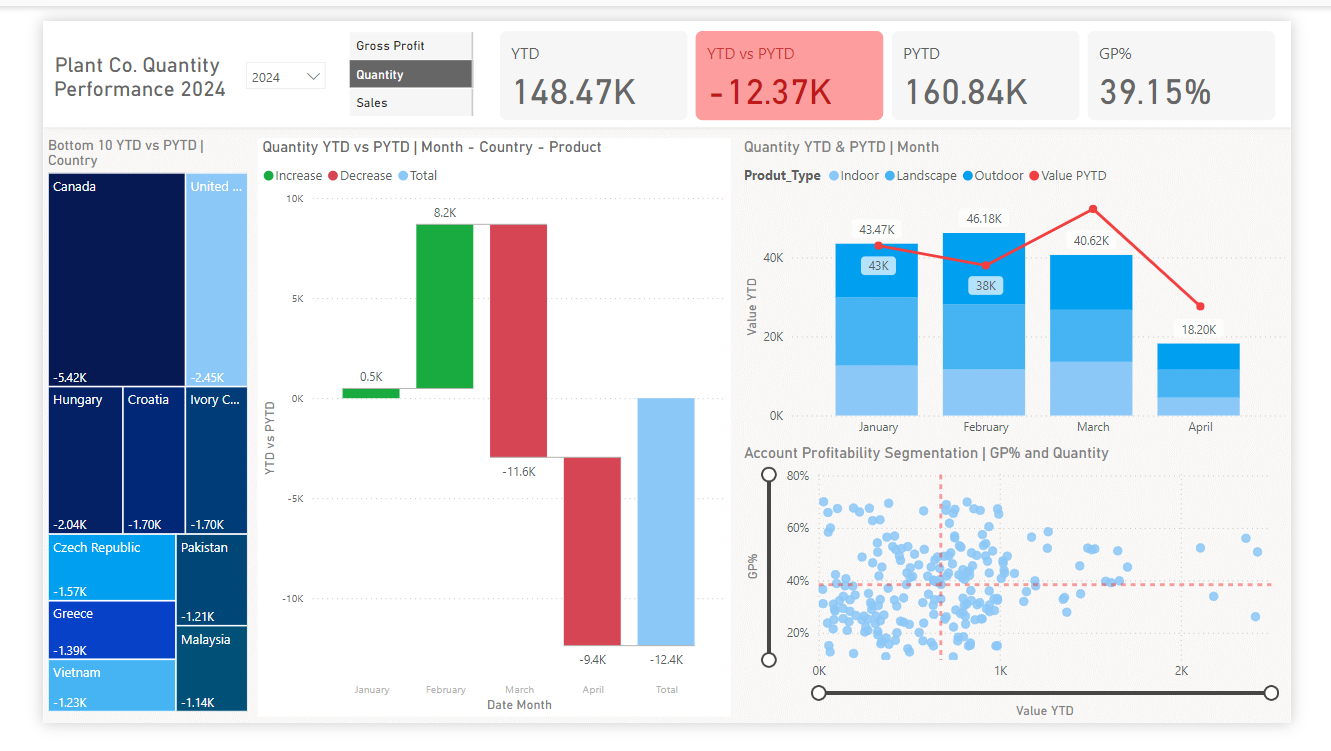

Layout of this report page (visuals, bound fields, positions):
{"tool":"powerbi","page":{"name":"Performance Report","canvas":[1280,720],"ordinal":0},"visuals":[{"type":"cardVisual","fields":{"Data":["_Measures.S_YTD","_Measures.YTD vs PYTD","_Measures.S_PYTD","_Measures.GP%"]},"box":[463,4.2,806.2,102.1],"z":0},{"type":"advancedSlicerVisual","fields":{"Values":["Slc_Values.Values"]},"box":[309.8,5.9,137.3,98],"z":1000},{"type":"slicer","fields":{"Values":["Dim_Date.Date.Variation.Date Hierarchy.Year"]},"box":[198.4,32.7,101.3,50.2],"z":2000},{"type":"treemap","title":"Bottom 10 YTD vs PYTD | Country","fields":{"Values":["_Measures.YTD vs PYTD"],"Group":["Dim_Account.country"]},"box":[0,118.7,214.6,594.4],"z":3000},{"type":"waterfallChart","fields":{"Y":["_Measures.YTD vs PYTD"],"Category":["Dim_Date.Date.Variation.Date Hierarchy.Month","Dim_Account.country","Dim_Product.Produt_Type","Dim_Product.Product_Name"]},"box":[220.3,119.6,485.2,593.5],"z":4000},{"type":"lineStackedColumnComboChart","fields":{"Y":["_Measures.S_YTD"],"Y2":["_Measures.S_PYTD"],"Category":["Dim_Date.Date.Variation.Date Hierarchy.Quarter","Dim_Date.Date.Variation.Date Hierarchy.Month"],"Series":["Dim_Product.Produt_Type"]},"box":[714.1,119.6,565.9,314.3],"z":5000},{"type":"scatterChart","fields":{"Y":["_Measures.GP%"],"X":["_Measures.S_YTD"],"Category":["Dim_Account.Account"]},"box":[714.1,433.9,565.9,285.8],"z":6000},{"type":"card","fields":{"Values":["_Measures._Report title"]},"box":[0,20.9,198.5,68.4],"z":7000}]}

Visuals, with their boxes in screenshot pixels (x1, y1, x2, y2), scaled from the page's 1280x720 canvas onto the 1331x751 screenshot:
cardVisual - _Measures.S_YTD x _Measures.YTD vs PYTD: {"x1": 481, "y1": 4, "x2": 1320, "y2": 111}
advancedSlicerVisual - Slc_Values.Values: {"x1": 322, "y1": 6, "x2": 465, "y2": 108}
slicer - Dim_Date.Date.Variation.Date Hierarchy.Year: {"x1": 206, "y1": 34, "x2": 312, "y2": 86}
"Bottom 10 YTD vs PYTD | Country" treemap: {"x1": 0, "y1": 124, "x2": 223, "y2": 744}
waterfallChart - _Measures.YTD vs PYTD x Dim_Date.Date.Variation.Date Hierarchy.Month: {"x1": 229, "y1": 125, "x2": 734, "y2": 744}
lineStackedColumnComboChart - _Measures.S_YTD x _Measures.S_PYTD: {"x1": 743, "y1": 125, "x2": 1330, "y2": 453}
scatterChart - _Measures.GP% x _Measures.S_YTD: {"x1": 743, "y1": 453, "x2": 1330, "y2": 750}
card - _Measures._Report title: {"x1": 0, "y1": 22, "x2": 206, "y2": 93}
